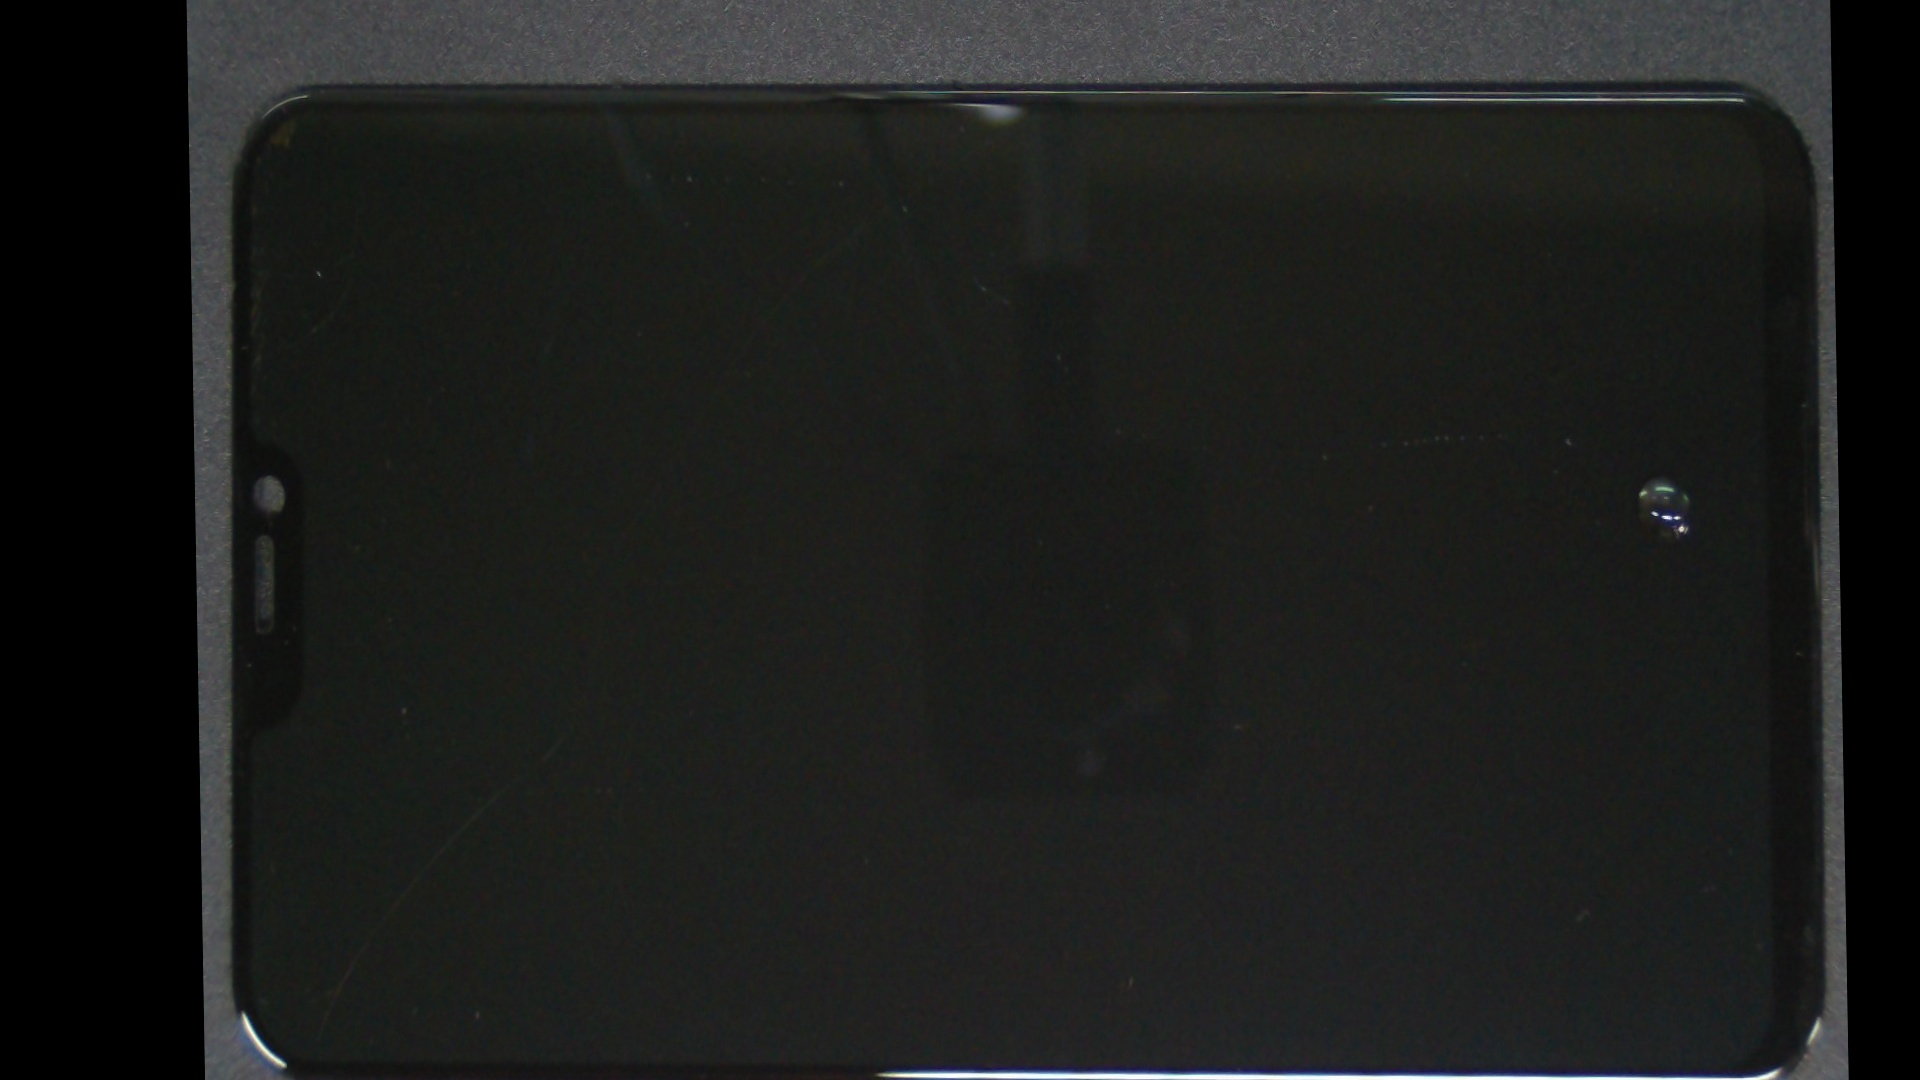oil: (920, 206, 1844, 764)
